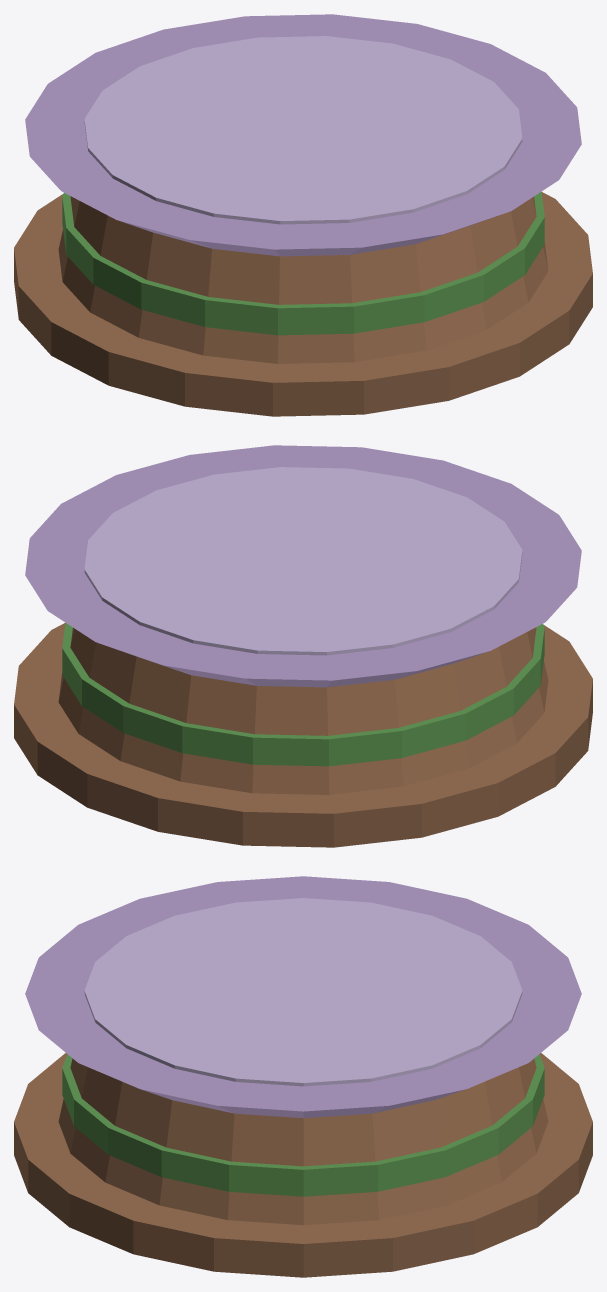
The model's file is goo_cork_stand@mushroom.fbx.
3 views of the same model, one above another, from view 1: azimuth 30°, elevation 25°; view 2: azimuth 150°, elevation 25°; view 3: azimuth 270°, elevation 25° (orthographic).
Parts seen in each view (by area): view 1: goo_cork_stand; view 2: goo_cork_stand; view 3: goo_cork_stand.
Part boxes in pixels (x1,y1,x2,y2): goo_cork_stand: (14, 14, 592, 416); goo_cork_stand: (14, 445, 592, 847); goo_cork_stand: (14, 876, 592, 1277).
Bounding box in the file's own units: 7.8 × 2.45 × 7.8.
